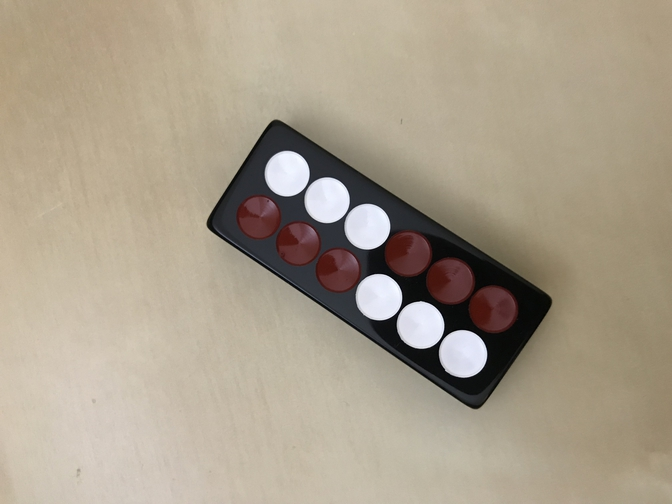heaven: (204, 117, 553, 410)
